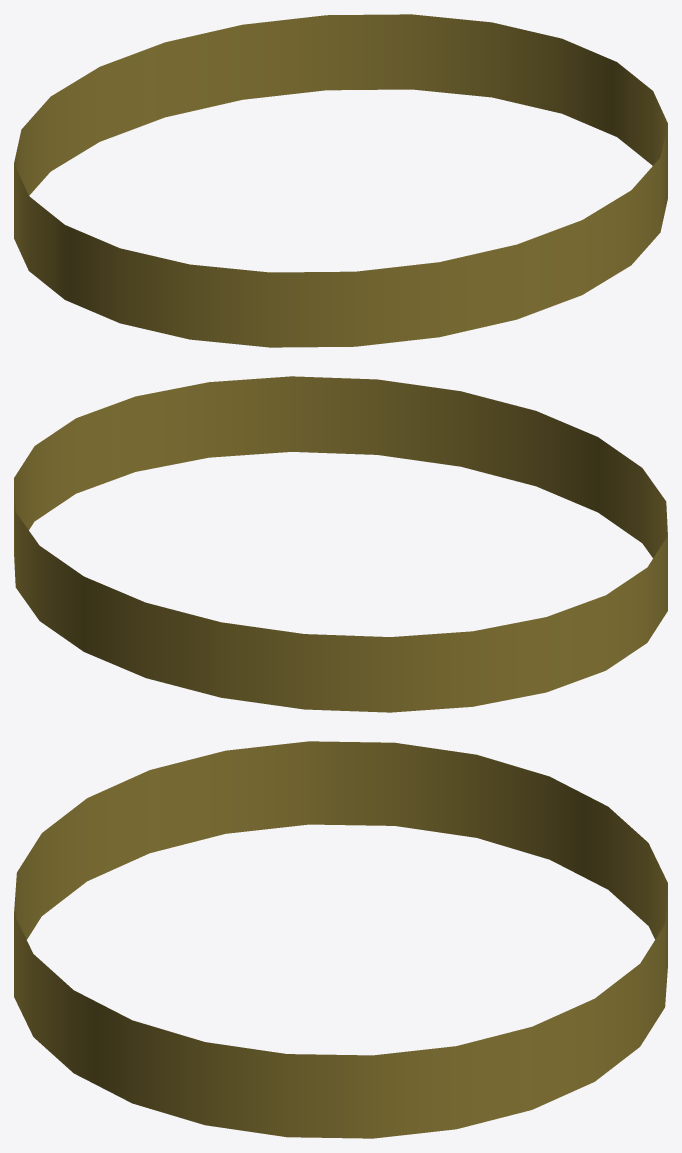
File: original-13.obj
The picture shows the model from 3 angles, top to bottom: view 1: azimuth 30°, elevation 25°; view 2: azimuth 150°, elevation 25°; view 3: azimuth 270°, elevation 25°; orthographic projection. The views are drawn at different scales.
Visible parts, largest first — view 1: #ID390; view 2: #ID390; view 3: #ID390.
Part boxes in pixels (x1,y1,x2,y2): #ID390: [14, 14, 667, 347]; #ID390: [14, 376, 667, 712]; #ID390: [14, 741, 667, 1138].
Size of the model in its own units: 0.0828 by 0.0102 by 0.0728.
